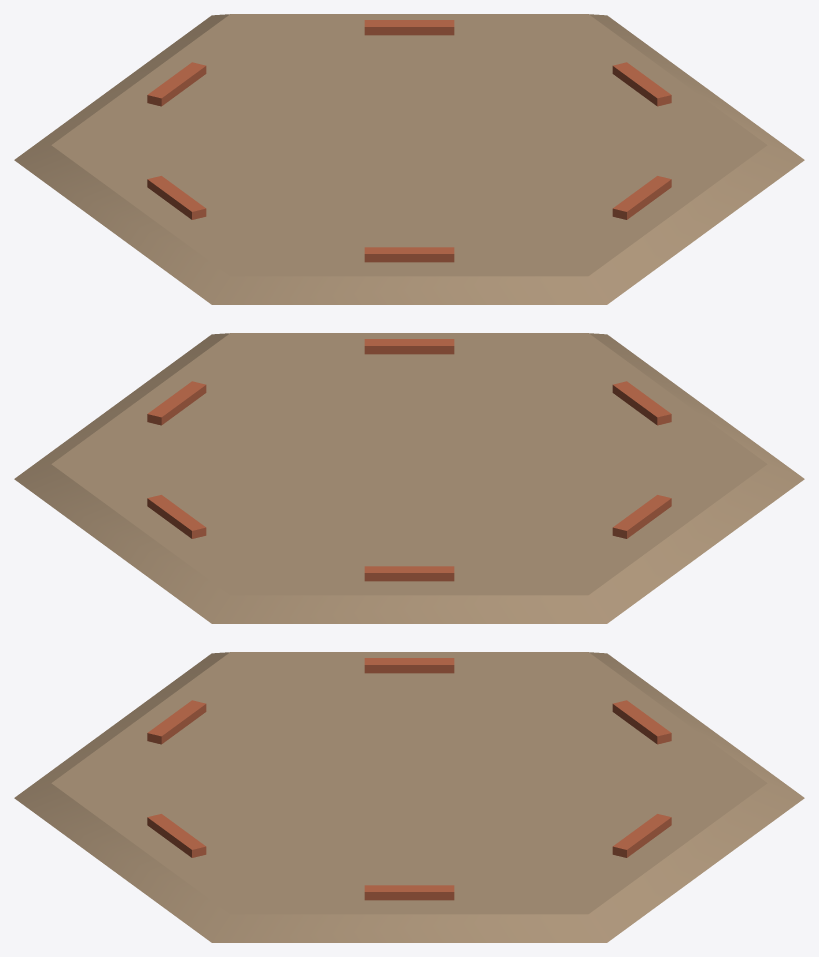
File: foundation.glb
The picture shows the model from 3 angles, top to bottom: view 1: azimuth 30°, elevation 25°; view 2: azimuth 150°, elevation 25°; view 3: azimuth 270°, elevation 25°; orthographic projection.
Parts seen in each view (by area): view 1: foundation_inlay, foundation_rune_2, foundation_rune_5, foundation_rune_0, foundation_rune_1, foundation_rune_3, foundation_rune_4; view 2: foundation_inlay, foundation_rune_1, foundation_rune_4, foundation_rune_0, foundation_rune_2, foundation_rune_3, foundation_rune_5; view 3: foundation_inlay, foundation_rune_0, foundation_rune_3, foundation_rune_1, foundation_rune_2, foundation_rune_4, foundation_rune_5.
Boxes of the visible parts, x1,y1,x2,y2 form: foundation_inlay: (14,14,804,304); foundation_rune_2: (364,247,454,262); foundation_rune_5: (364,20,454,35); foundation_rune_0: (612,62,671,106); foundation_rune_1: (612,176,671,219); foundation_rune_3: (147,176,206,219); foundation_rune_4: (147,62,206,106); foundation_inlay: (14,333,804,623); foundation_rune_1: (364,339,454,354); foundation_rune_4: (364,566,454,581); foundation_rune_0: (147,381,206,425); foundation_rune_2: (612,381,671,425); foundation_rune_3: (612,495,671,538); foundation_rune_5: (147,495,206,538); foundation_inlay: (14,652,804,942); foundation_rune_0: (364,885,454,900); foundation_rune_3: (364,658,454,673); foundation_rune_1: (147,814,206,857); foundation_rune_2: (147,700,206,744); foundation_rune_4: (612,700,671,744); foundation_rune_5: (612,814,671,857).
Size of what is drawn, in the model's own units: 9.18 by 0.34 by 10.6.
